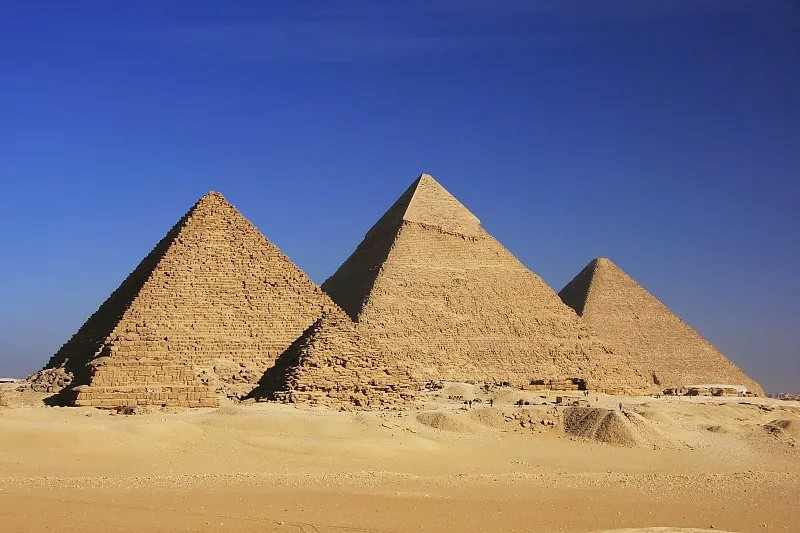Pyramid: (322, 174, 660, 397), (36, 190, 352, 399), (558, 257, 766, 398), (248, 312, 422, 406), (50, 322, 219, 409)
